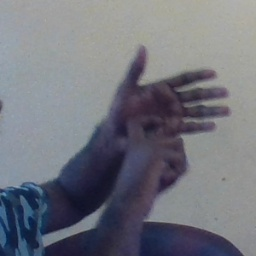R: (102, 43, 235, 197)
